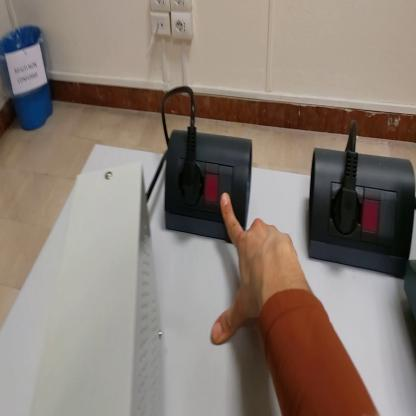hand: (210, 188, 310, 351)
oscilloscope: (408, 258, 416, 322)
power supply: (46, 172, 165, 414)
socket: (310, 147, 416, 285), (167, 132, 255, 247)
